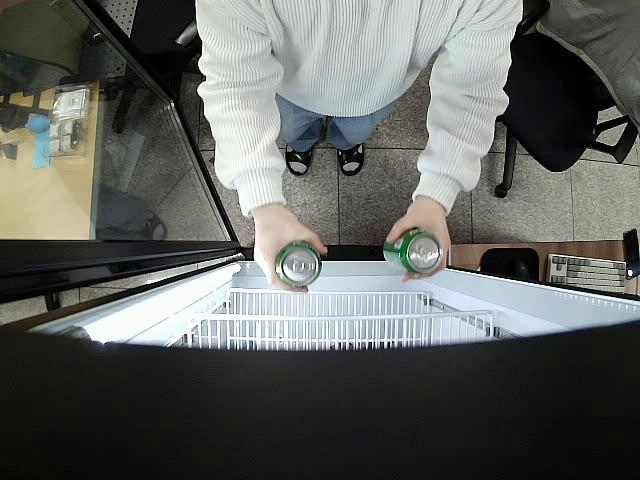12_chilsungCider: (383, 230, 442, 274), (274, 242, 323, 288)
